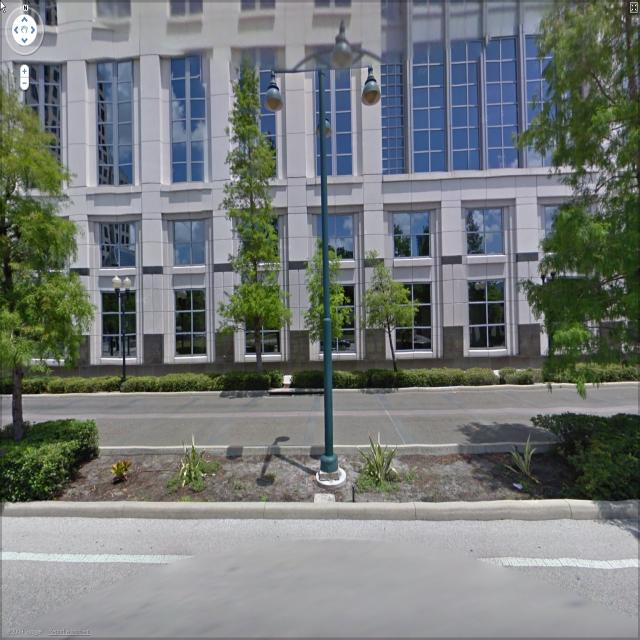b_2: (11, 1, 632, 381)
